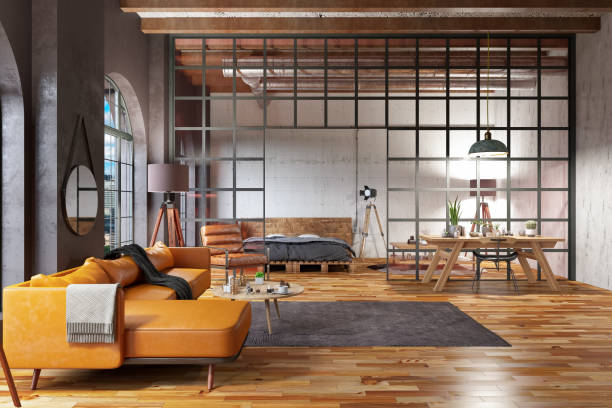chair: (199, 221, 272, 283)
dining table set: (416, 232, 564, 295)
floor lamp: (144, 160, 191, 248), (355, 180, 390, 260), (465, 176, 499, 234)
small plant: (444, 191, 463, 234)
sofa: (1, 242, 254, 393)
table: (205, 279, 306, 336)
